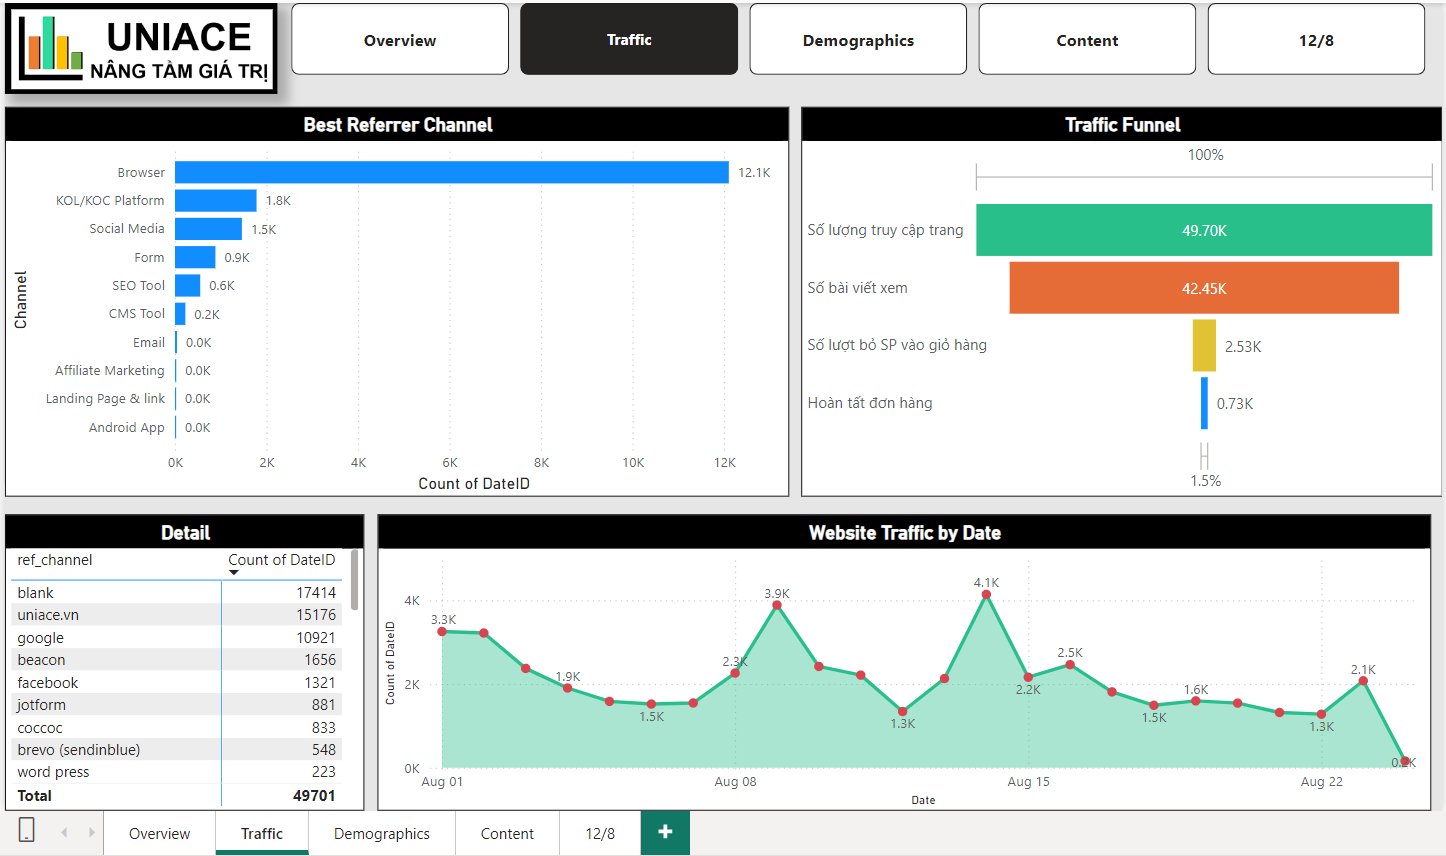

The dashboard page shown, as its layout file describes it:
{"tool":"powerbi","page":{"name":"Traffic","canvas":[1280,720],"ordinal":1},"visuals":[{"type":"image","box":[0,0,242.7,80.9],"z":0},{"type":"clusteredBarChart","title":"Best Referrer Channel","fields":{"Category":["seo_analytics.Channel"],"Y":["CountNonNull(seo_analytics.DateID)"]},"box":[0,92.9,698.6,347.1],"z":1000},{"type":"pivotTable","title":"Detail","fields":{"Rows":["seo_analytics.ref_channel"],"Values":["CountNonNull(seo_analytics.DateID)"]},"box":[0,455.7,320,264.3],"z":2000},{"type":"pageNavigator","box":[255,0,1014.6,64.4],"z":3000},{"type":"funnel","title":"Traffic Funnel","fields":{"Y":["CountNonNull(seo_analytics.DateID)","seo_analytics.Count of type for page","seo_analytics.Count of type for list_addition","seo_analytics.Count of name for Completed Order"]},"box":[708.6,92.9,571.4,347.1],"z":4000},{"type":"areaChart","title":"Website Traffic by Date","fields":{"Category":["calendar.Date"],"Y":["CountNonNull(seo_analytics.DateID)"]},"box":[331.4,455.7,938.6,264.3],"z":5000}]}

Visuals, with their boxes in screenshot pixels (x1, y1, x2, y2):
image: pyautogui.locateOnScreen(0, 0, 270, 90)
"Best Referrer Channel" clusteredBarChart: pyautogui.locateOnScreen(0, 103, 778, 490)
"Detail" pivotTable: pyautogui.locateOnScreen(0, 508, 357, 802)
pageNavigator: pyautogui.locateOnScreen(284, 0, 1414, 72)
"Traffic Funnel" funnel: pyautogui.locateOnScreen(789, 103, 1426, 490)
"Website Traffic by Date" areaChart: pyautogui.locateOnScreen(369, 508, 1415, 802)
